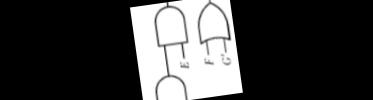and: (150, 3, 192, 49), (150, 70, 192, 100)
or: (192, 0, 232, 46)
